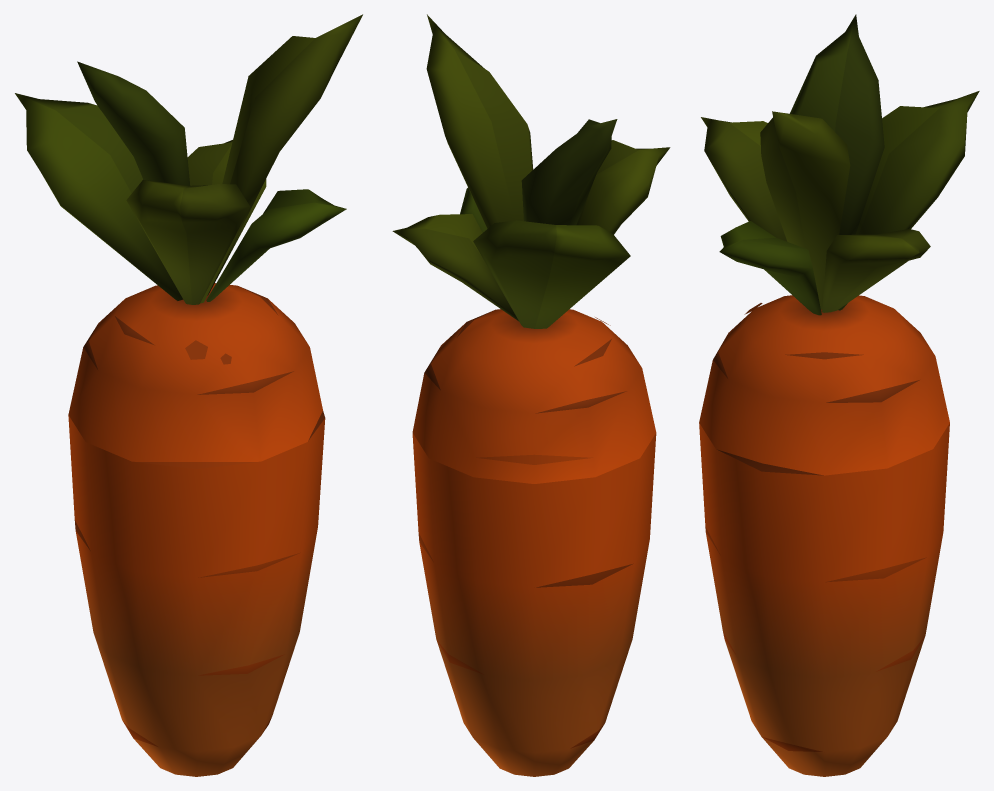
The model's file is Crop_Carrot.fbx.
3 views of the same model, side by side, from view 1: azimuth 30°, elevation 25°; view 2: azimuth 150°, elevation 25°; view 3: azimuth 270°, elevation 25° (orthographic). The views are drawn at different scales.
Visible parts, largest first — view 1: Crop_Carrot; view 2: Crop_Carrot; view 3: Crop_Carrot.
Boxes of the visible parts, left/top/right/bottom form: Crop_Carrot: left=15, top=14, right=362, bottom=776; Crop_Carrot: left=392, top=14, right=670, bottom=776; Crop_Carrot: left=699, top=14, right=979, bottom=776.
Size of the model in its own units: 1.41 by 3.85 by 1.34.
